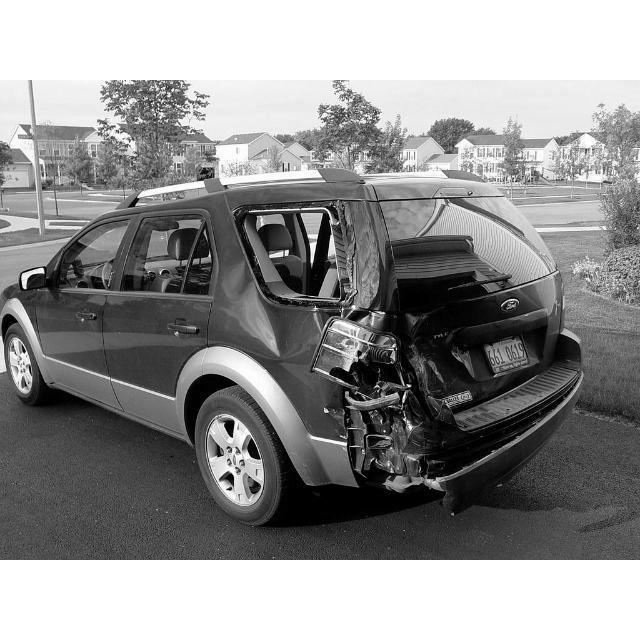Rear-windscreen-Damage: (367, 191, 550, 295)
boot-dent: (363, 293, 573, 396)
quaterpanel-dent: (226, 297, 372, 460)
rear-bumper-dent: (383, 394, 566, 494)
